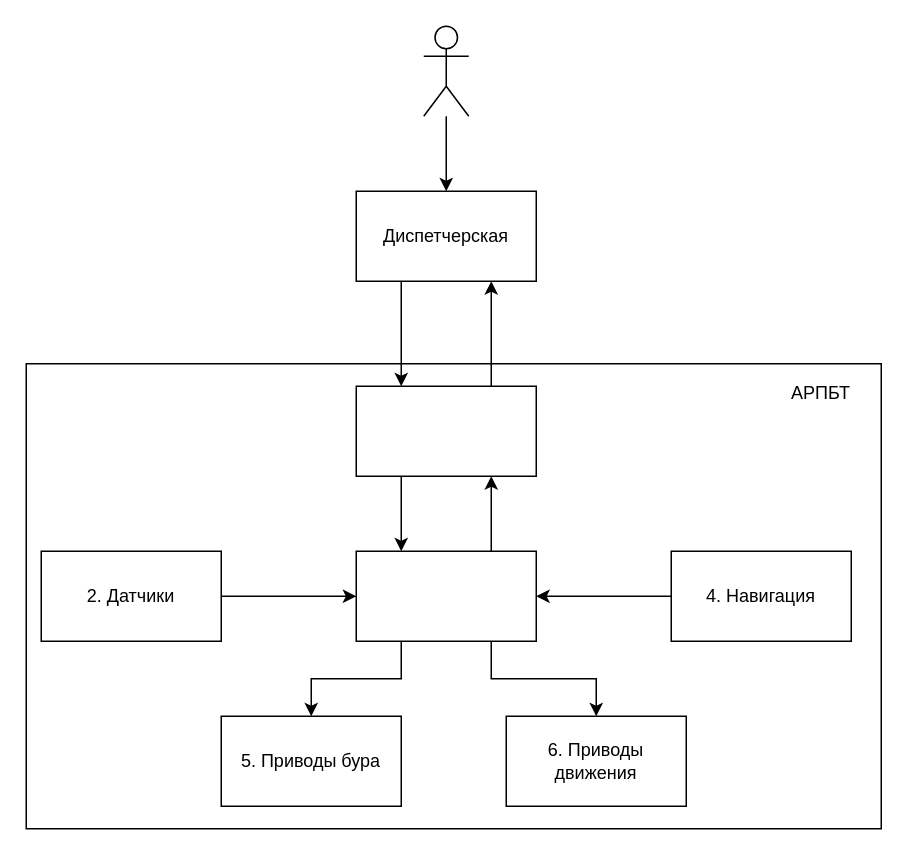
Image size: 908x855. Some labels were removed from this diagram. Here are the shapes that lost their labels. From the top down, the centre of each, then its label:
the point at 445,70: Оператор
the point at 445,430: 1. Связь
the point at 445,595: 3. Система управления
